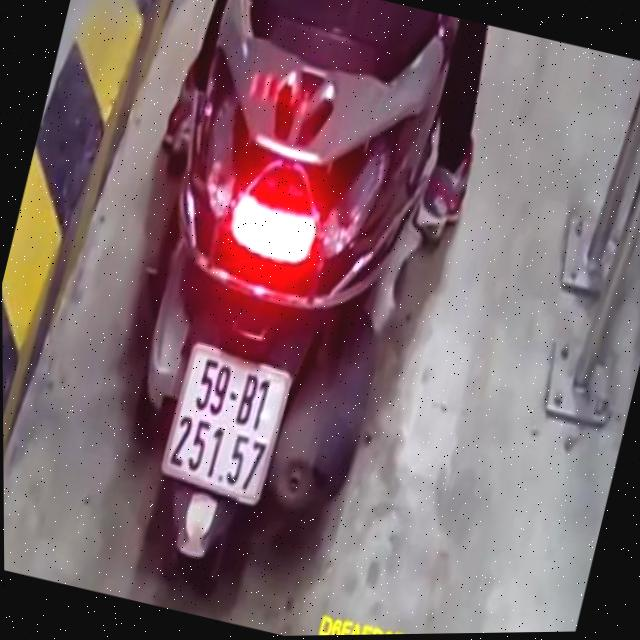motorcycle: (72, 0, 481, 613)
plate: (154, 330, 302, 508)
